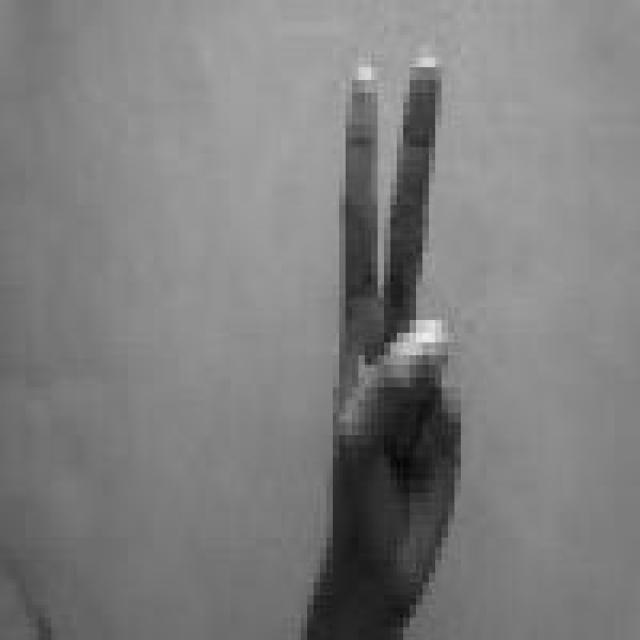V: (296, 45, 485, 611)
